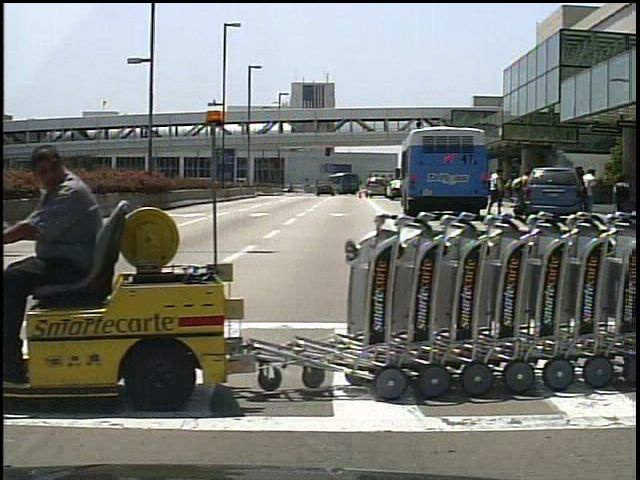person: (13, 146, 119, 385), (509, 167, 531, 219), (487, 166, 508, 217), (580, 165, 601, 214)
